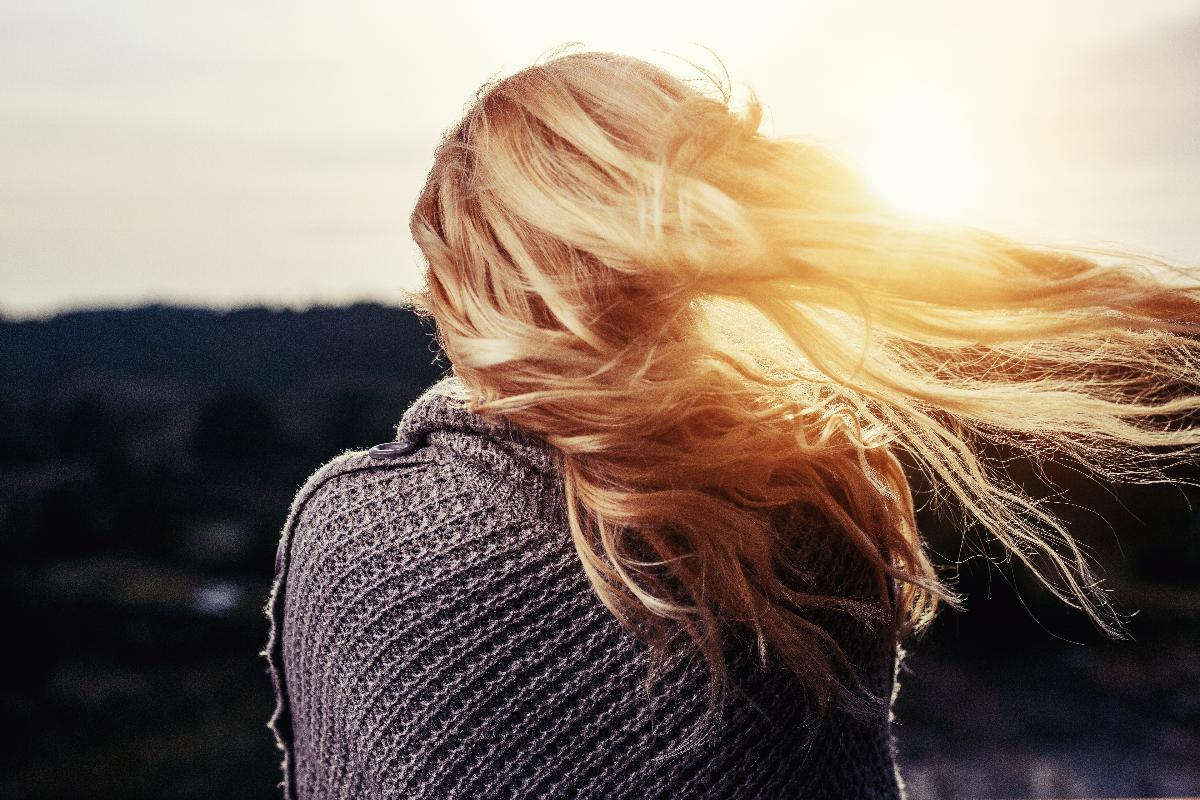Person: (248, 46, 971, 800)
